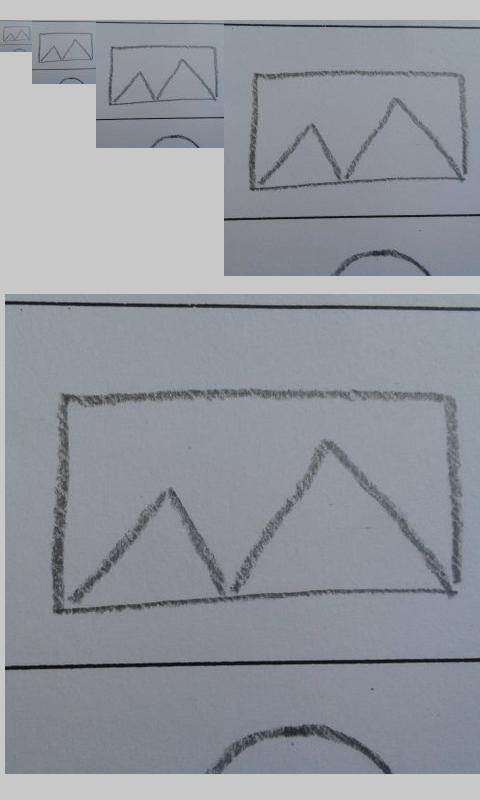image_view: (53, 391, 464, 619), (249, 72, 468, 191), (108, 44, 218, 106), (37, 32, 94, 64), (2, 25, 31, 42)
